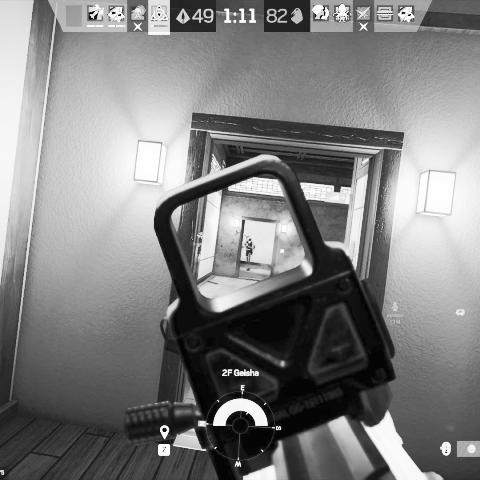Character: (244, 237, 256, 266)
Friend_label: (190, 232, 211, 246)
Head: (248, 238, 252, 244)
